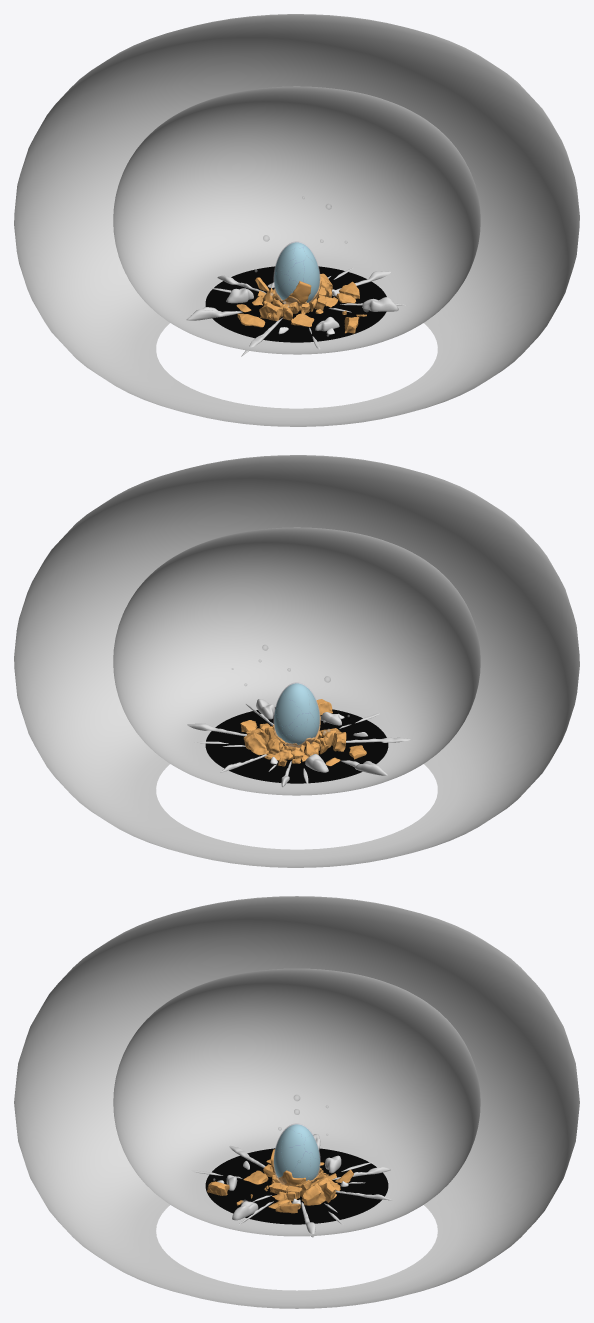
The model's file is PXLs_egg325.glb.
The picture shows the model from 3 angles, top to bottom: view 1: azimuth 30°, elevation 25°; view 2: azimuth 150°, elevation 25°; view 3: azimuth 270°, elevation 25°; orthographic projection.
Visible parts, largest first — view 1: outerCylinder, innerCylinder, floorBase, rockDebris, smoke4, smoke3, crackedEgg; view 2: outerCylinder, innerCylinder, floorBase, rockDebris, smoke4, smoke3, crackedEgg; view 3: outerCylinder, innerCylinder, floorBase, rockDebris, smoke4, smoke3, crackedEgg.
Boxes of the visible parts, box(x1,y1,x2,y2) form: outerCylinder: box(14, 14, 579, 426); innerCylinder: box(113, 86, 480, 354); floorBase: box(205, 266, 386, 342); rockDebris: box(237, 273, 359, 333); smoke4: box(273, 241, 320, 305); smoke3: box(274, 241, 319, 302); crackedEgg: box(274, 242, 319, 302); outerCylinder: box(14, 455, 579, 867); innerCylinder: box(113, 527, 480, 795); floorBase: box(205, 707, 388, 783); rockDebris: box(240, 699, 366, 766); smoke4: box(273, 682, 320, 747); smoke3: box(274, 682, 319, 746); crackedEgg: box(274, 683, 319, 744); outerCylinder: box(14, 896, 579, 1308); innerCylinder: box(113, 968, 480, 1236); floorBase: box(205, 1148, 388, 1224); rockDebris: box(207, 1156, 353, 1213); smoke4: box(273, 1123, 320, 1185); smoke3: box(274, 1123, 320, 1179); crackedEgg: box(274, 1124, 319, 1180).
Size of the model in its own units: 22.69 by 11.36 by 22.69.
Materials: 8 (2 with a texture image).
